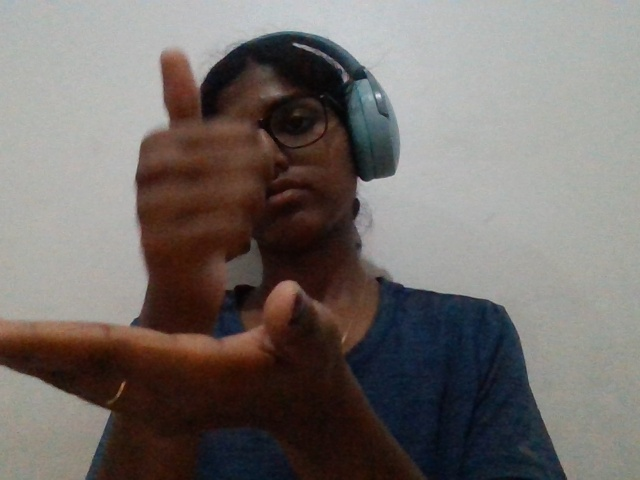Help: (1, 28, 392, 473)
